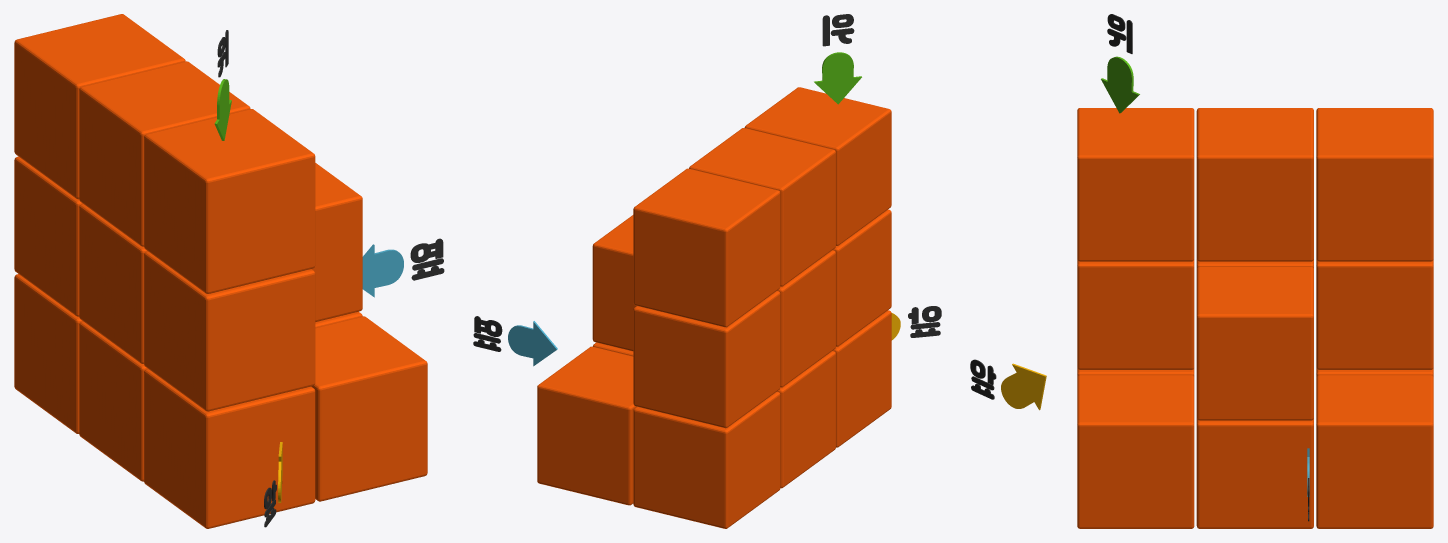
3 renders of one model, left to right at view 1: azimuth 30°, elevation 25°; view 2: azimuth 150°, elevation 25°; view 3: azimuth 270°, elevation 25°, orthographic. The views are drawn at different scales.
Parts seen in each view (by area): view 1: Box, Arrow.002, Text, Arrow; view 2: Box, Arrow, Arrow.002, Text.002, Text, Text.001; view 3: Box, Arrow.001, Arrow, Text.002, Text.001.
Part boxes in pixels (bbox=[...]): Box: bbox=[14, 14, 427, 528]; Arrow.002: bbox=[362, 244, 403, 297]; Text: bbox=[410, 238, 444, 280]; Arrow: bbox=[214, 79, 231, 140]; Box: bbox=[537, 87, 891, 528]; Arrow: bbox=[814, 52, 861, 104]; Arrow.002: bbox=[508, 321, 557, 366]; Text.002: bbox=[908, 306, 941, 337]; Text: bbox=[473, 316, 502, 351]; Text.001: bbox=[822, 14, 854, 46]; Box: bbox=[1077, 108, 1433, 528]; Arrow.001: bbox=[1001, 363, 1046, 410]; Arrow: bbox=[1101, 56, 1139, 113]; Text.002: bbox=[970, 359, 996, 399]; Text.001: bbox=[1107, 14, 1132, 53].
Bounding box in the file's own units: 6.6 × 8.12 × 7.9.
2 materials, 2 textured.
